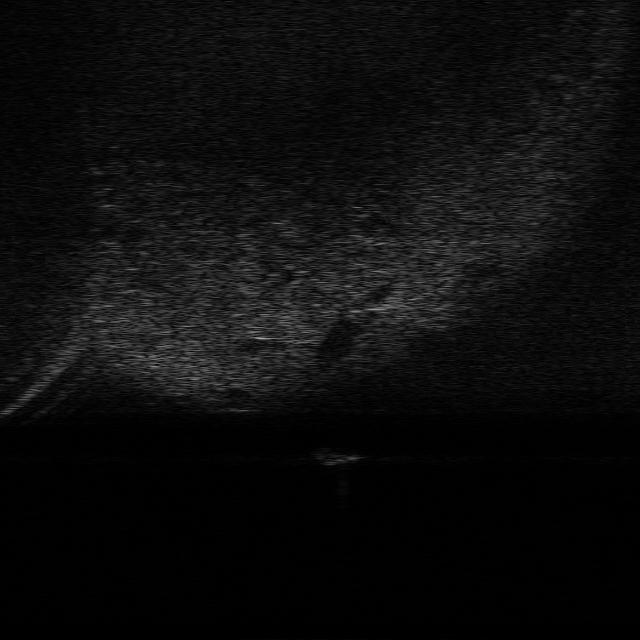cube: (315, 449, 360, 467)
